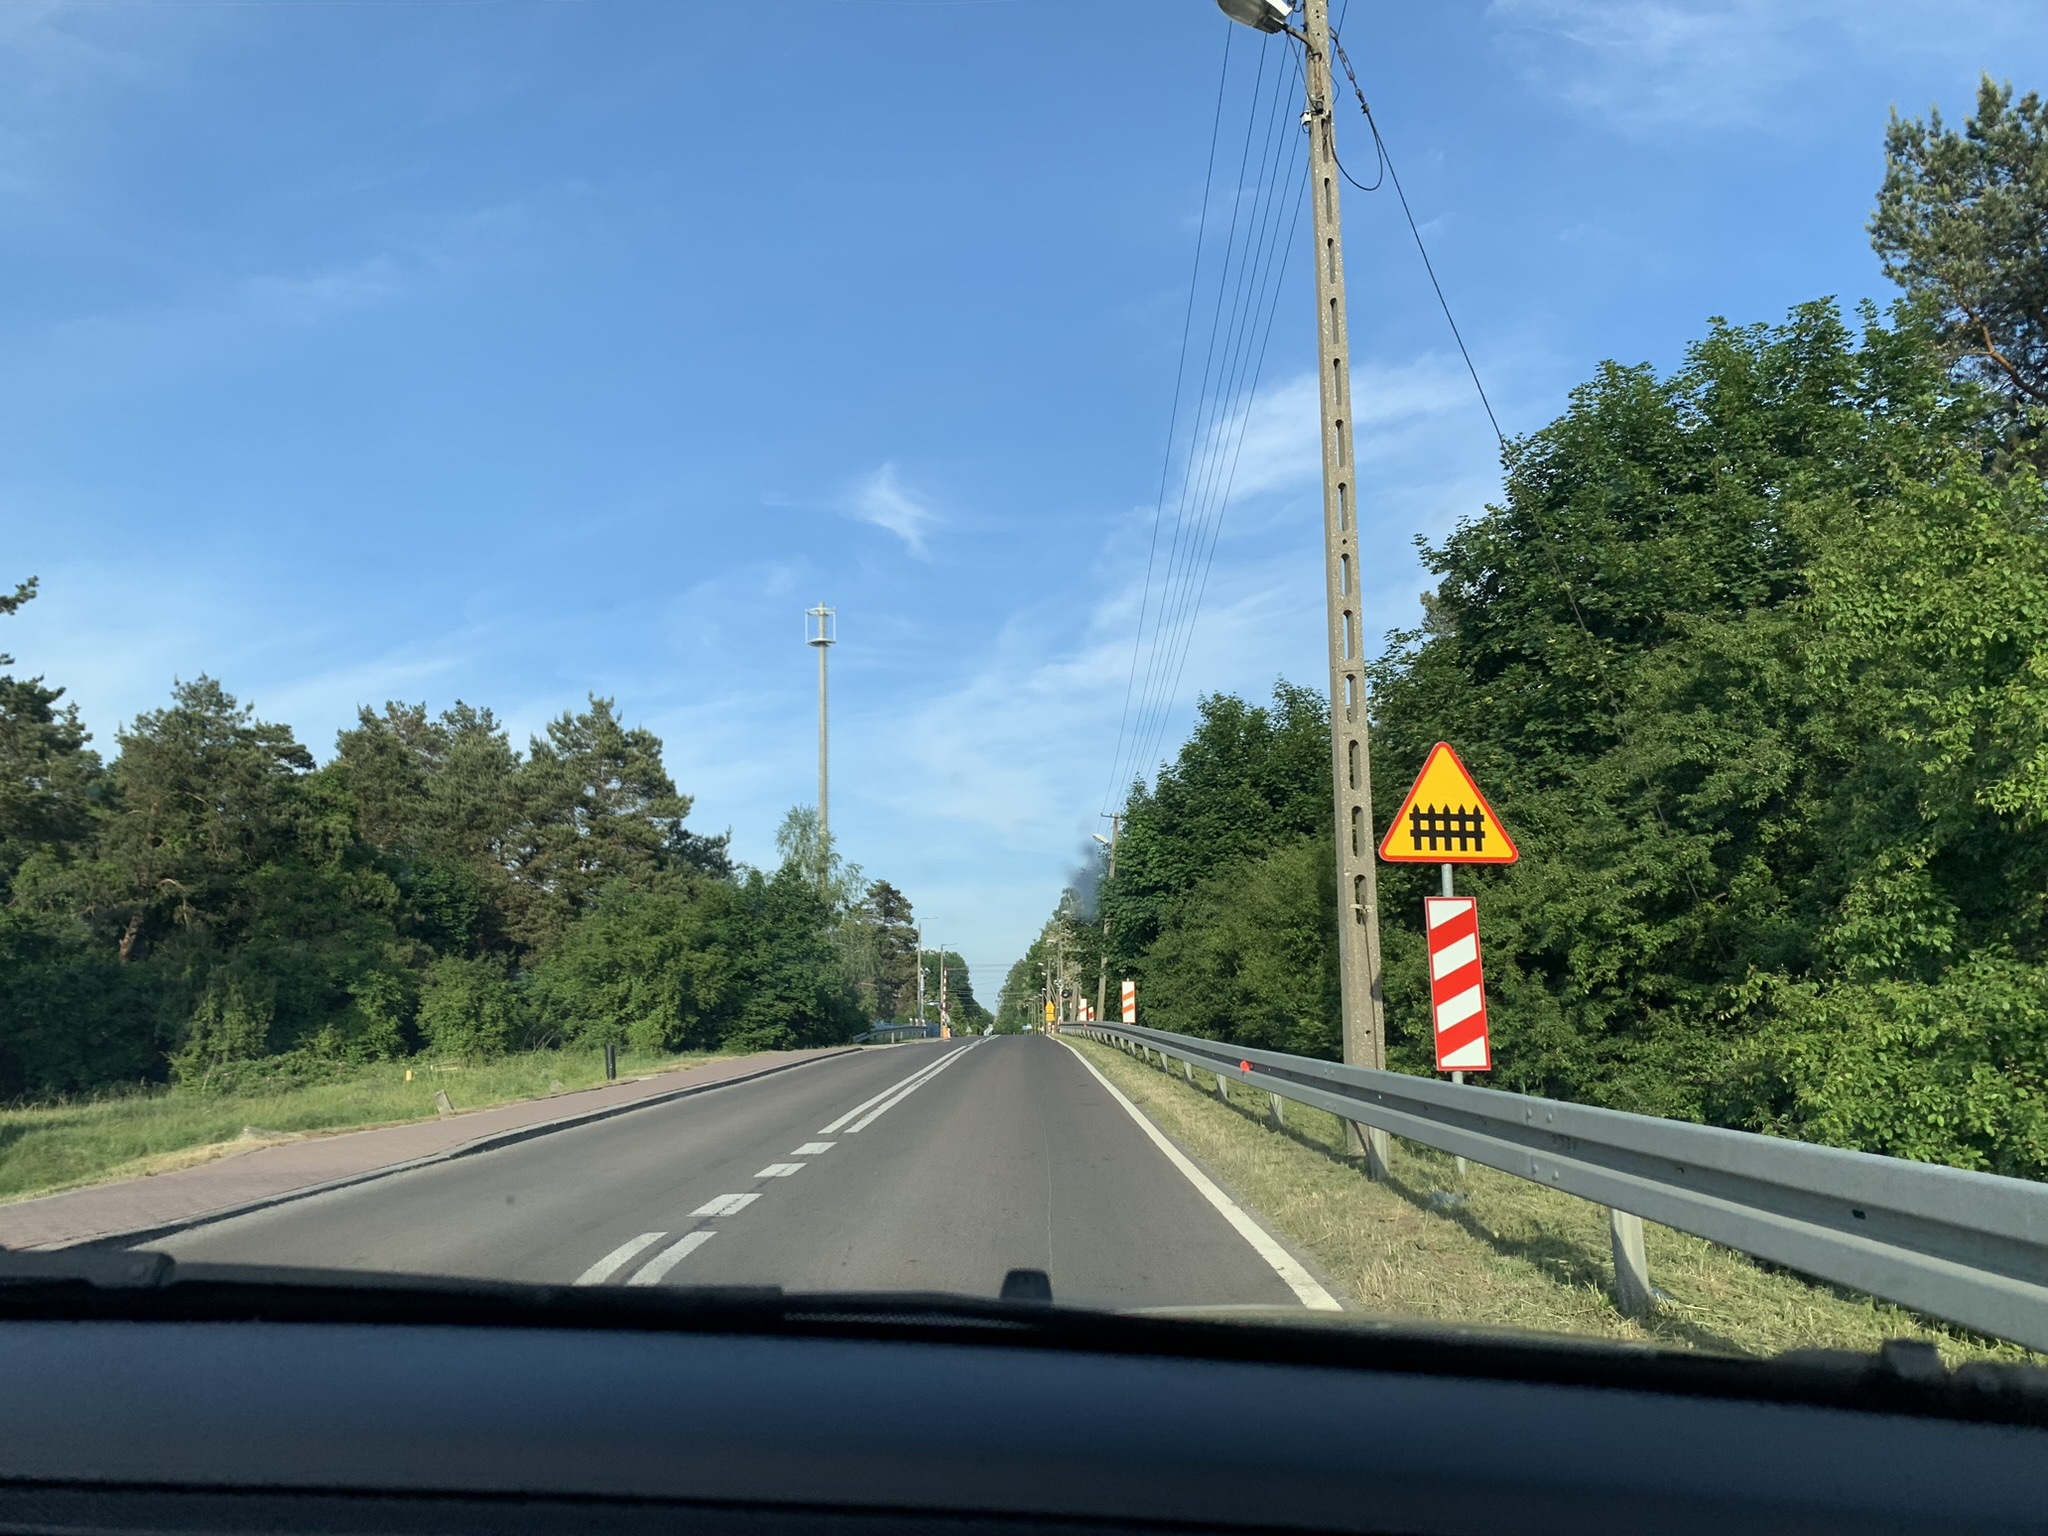a9: (1406, 800, 1488, 854)
